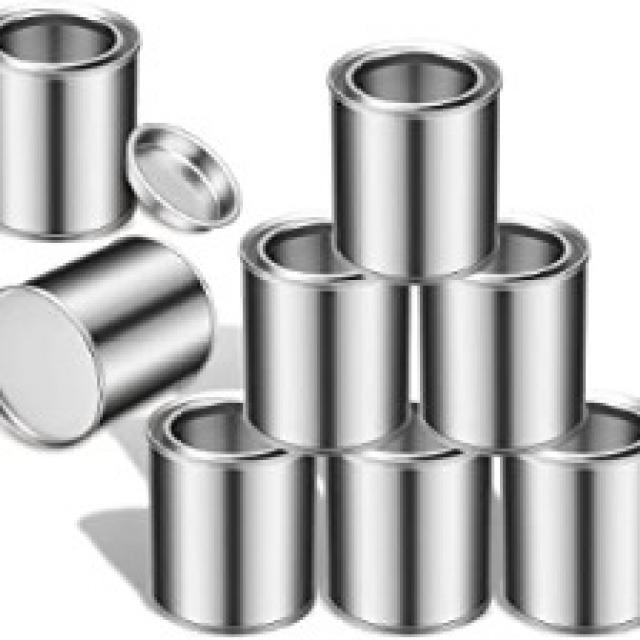metel: (315, 34, 516, 279), (235, 203, 420, 453), (9, 234, 224, 445), (151, 384, 316, 637), (331, 438, 493, 635), (5, 4, 132, 235), (426, 284, 597, 455), (499, 443, 640, 634), (124, 114, 252, 231)
